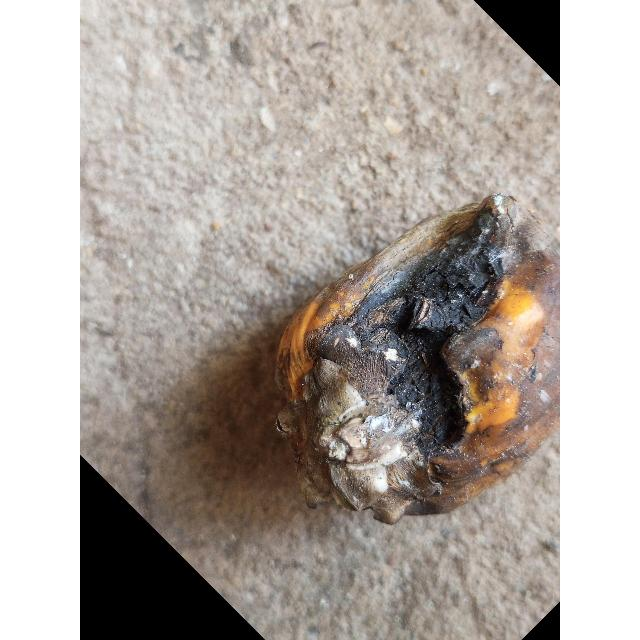damaged: (278, 199, 560, 525)
